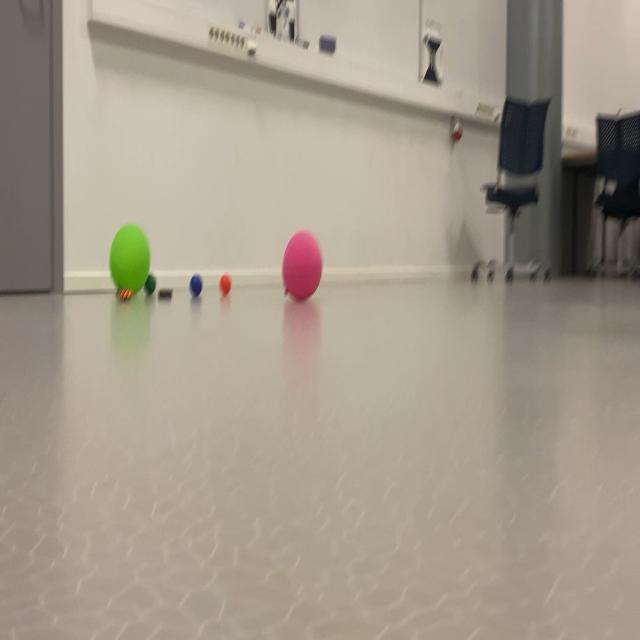7: (217, 271, 233, 303)
green ball: (186, 273, 206, 304)
red ball: (145, 270, 157, 298)
